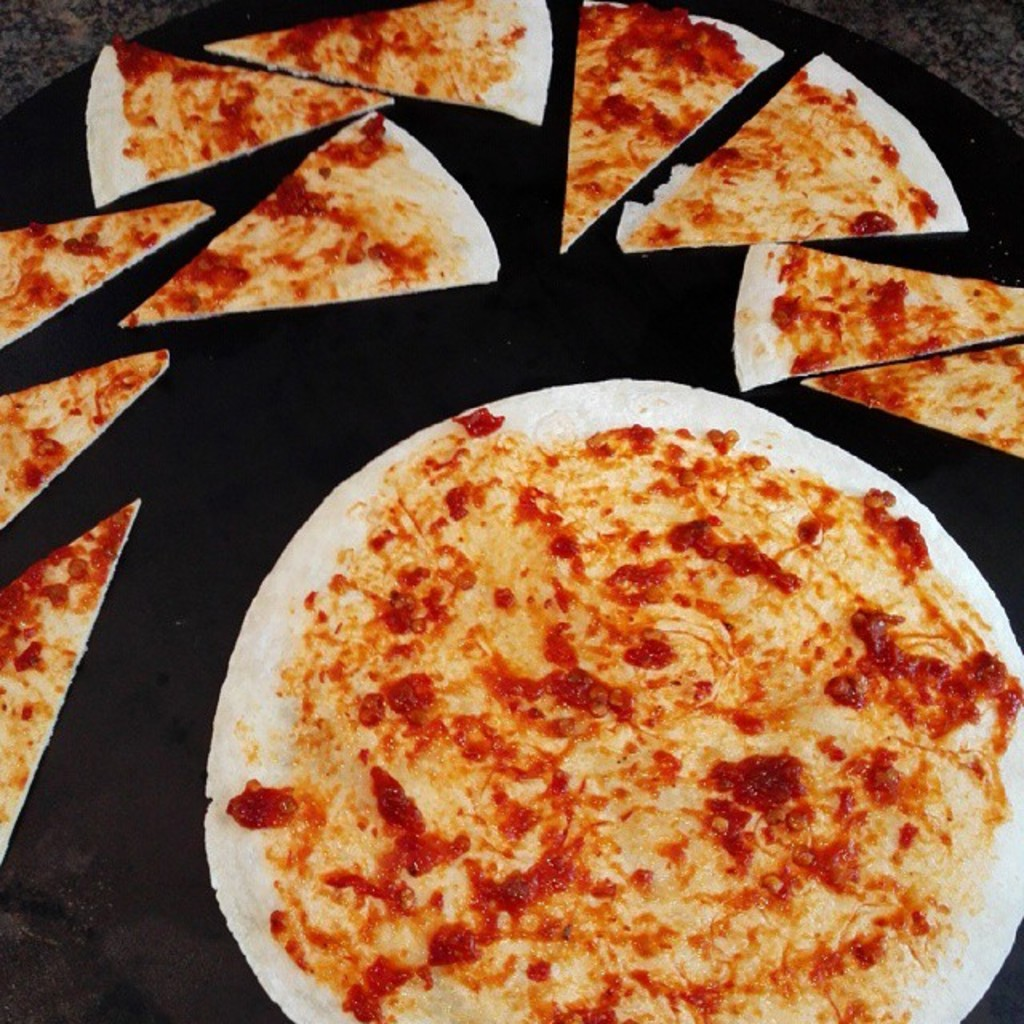Pizza: (147, 384, 1006, 1024), (112, 113, 496, 324), (619, 49, 958, 251), (564, 0, 782, 256), (84, 35, 395, 208), (0, 497, 139, 865), (201, 0, 555, 129), (732, 243, 1022, 391), (0, 198, 212, 345), (0, 352, 174, 529), (795, 340, 1022, 460)
